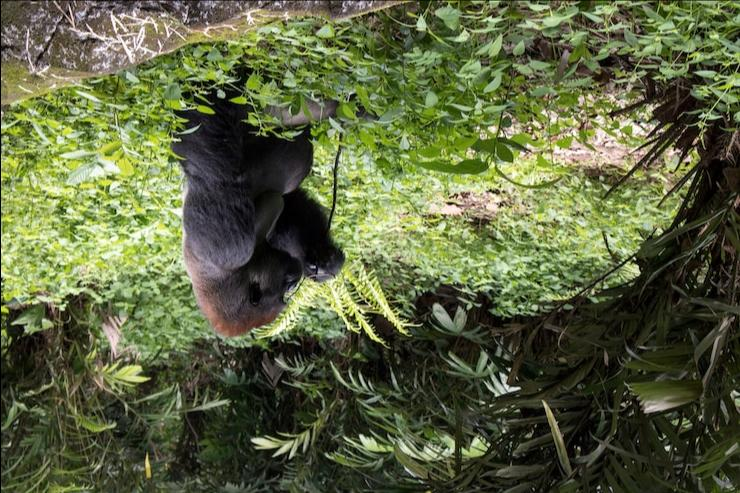gorille_Autres: (118, 60, 342, 369)
